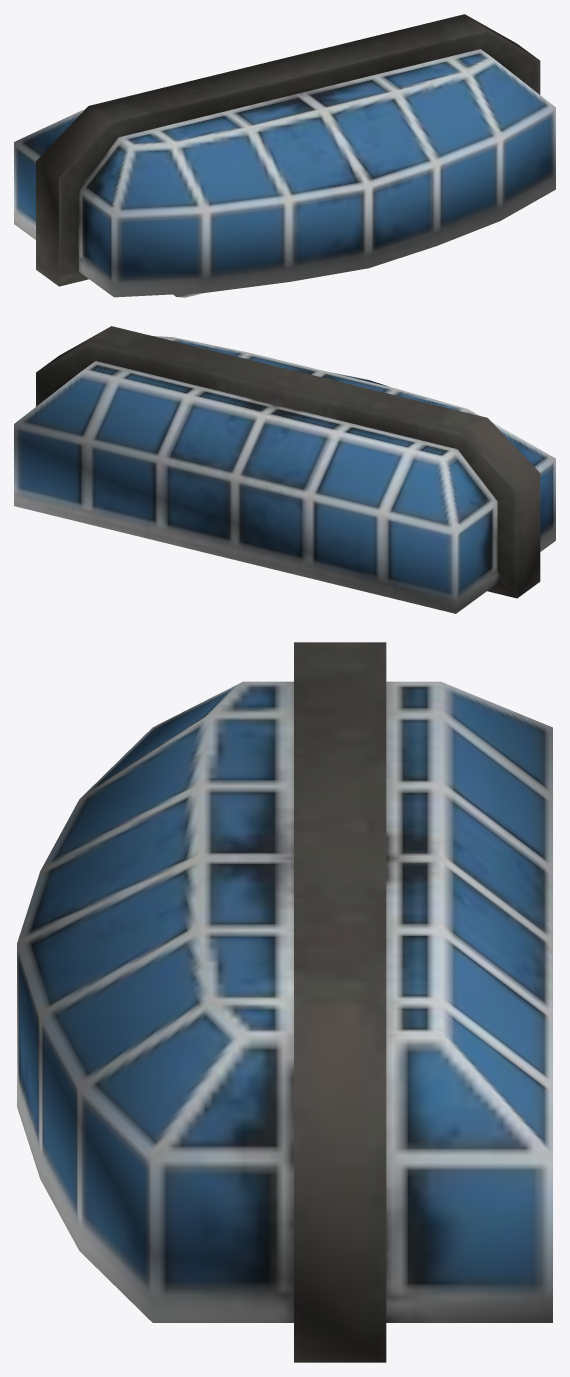
The model's file is Part - Windows 03-BlJ__2oD.glb.
3 renders of one model, top to bottom at view 1: azimuth 30°, elevation 25°; view 2: azimuth 150°, elevation 25°; view 3: azimuth 270°, elevation 25°, orthographic. The views are drawn at different scales.
Visible parts, largest first — view 1: Windows_03; view 2: Windows_03; view 3: Windows_03.
Boxes of the visible parts, x1=… form: Windows_03: x1=14, y1=14, x2=555, y2=297; Windows_03: x1=14, y1=326, x2=555, y2=613; Windows_03: x1=17, y1=642, x2=552, y2=1362.
Bounding box in the file's own units: 1.86 × 0.6381 × 0.896.
1 material, 1 textured.
